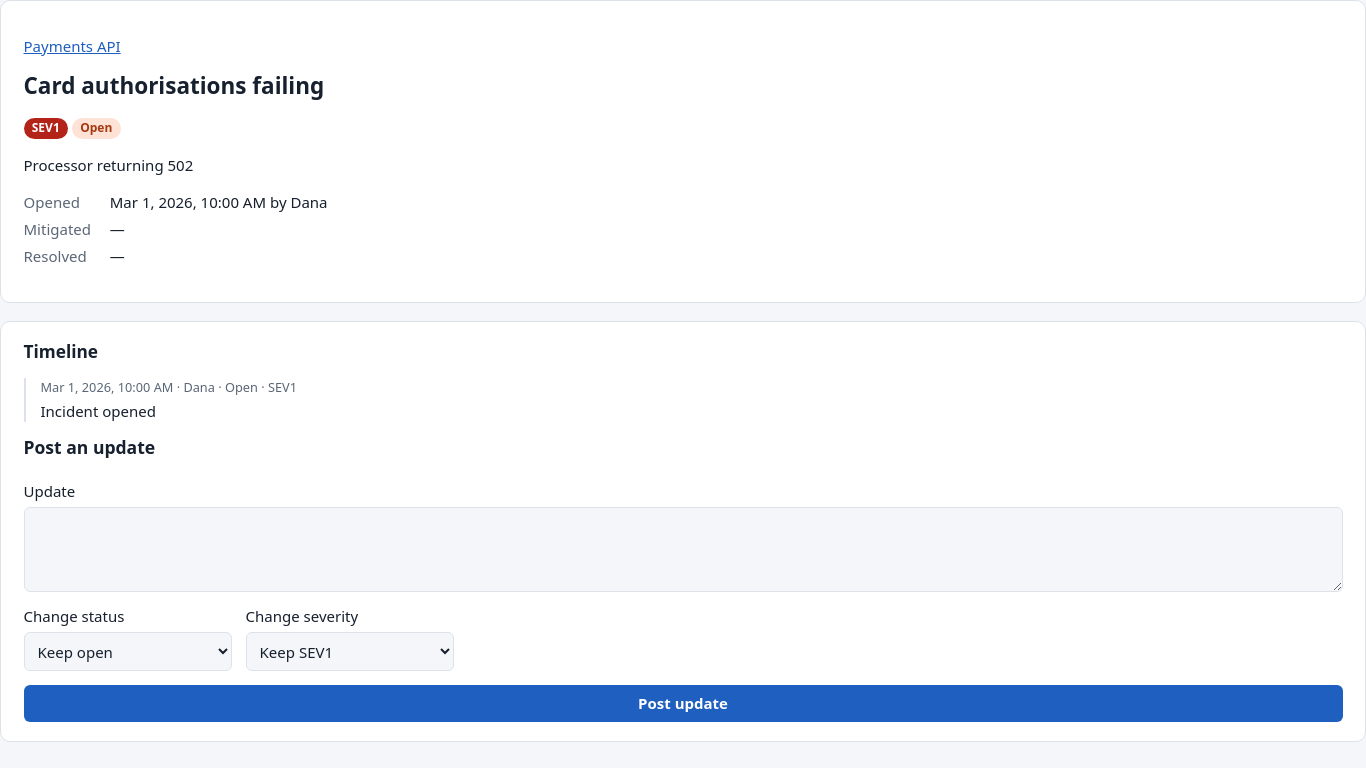
IncidentPage › lets operators post an update with a valid transition
Type "Failed over to secondary" into the text box labelled "Update" at (683,549), box x1=24 y1=507 x2=1342 y2=592
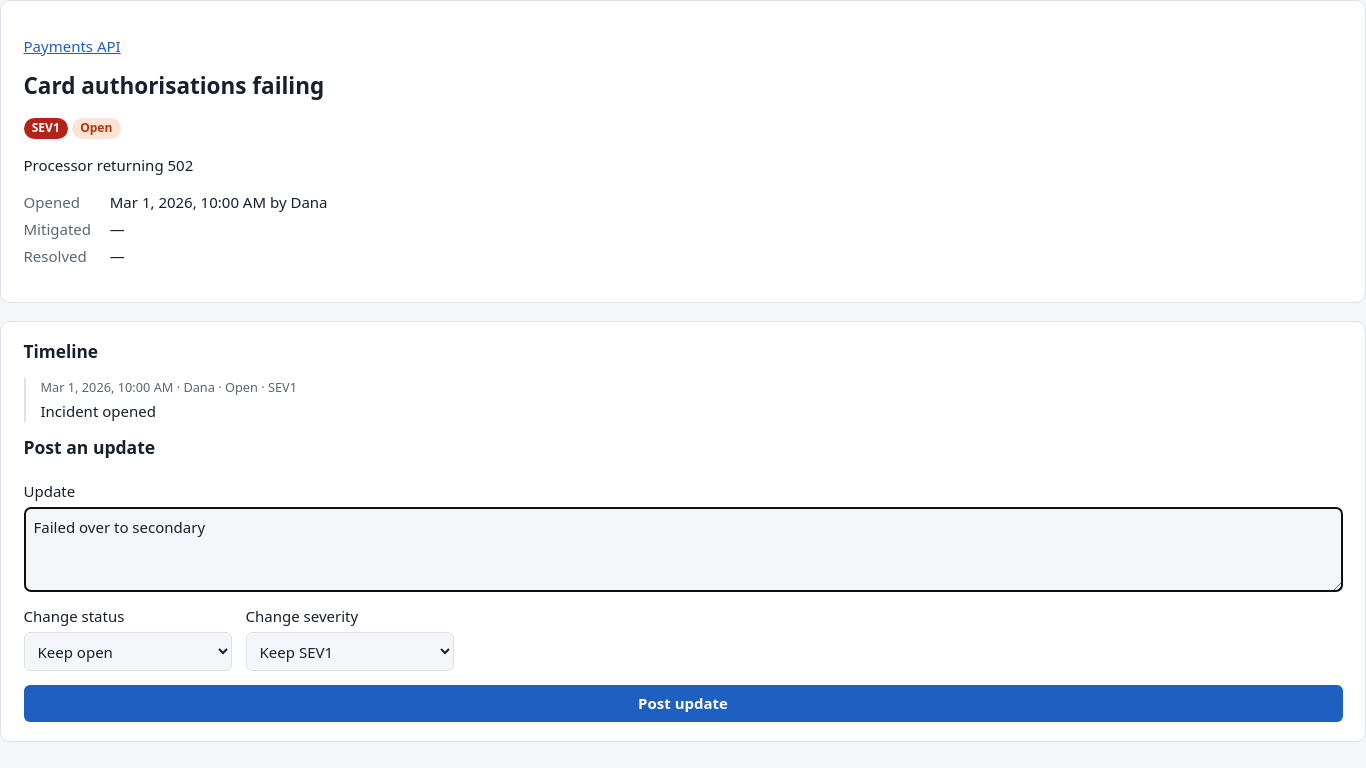
Select "Mitigated" in the dropdown labelled "Change status" at (128,652), box x1=24 y1=632 x2=232 y2=671
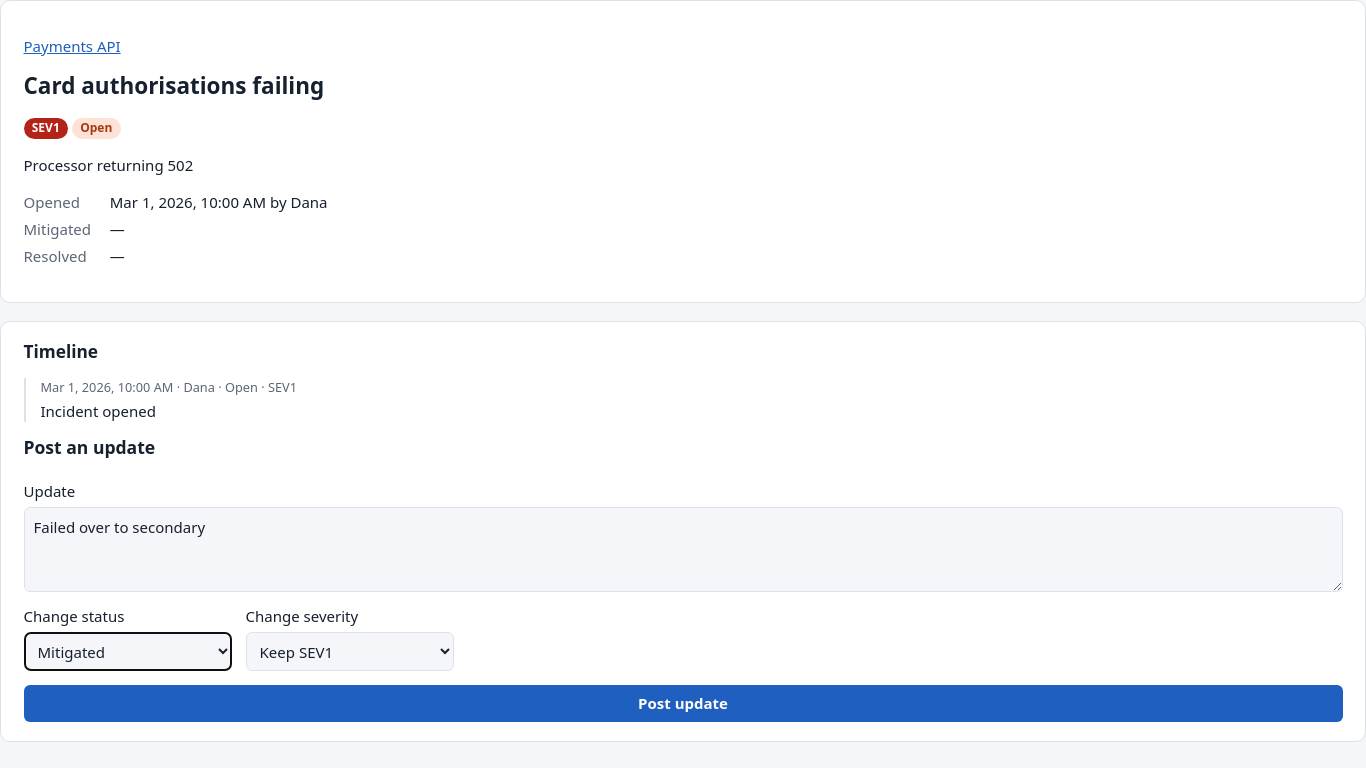
Click the button "Post update" at (683,703), box x1=24 y1=685 x2=1342 y2=722
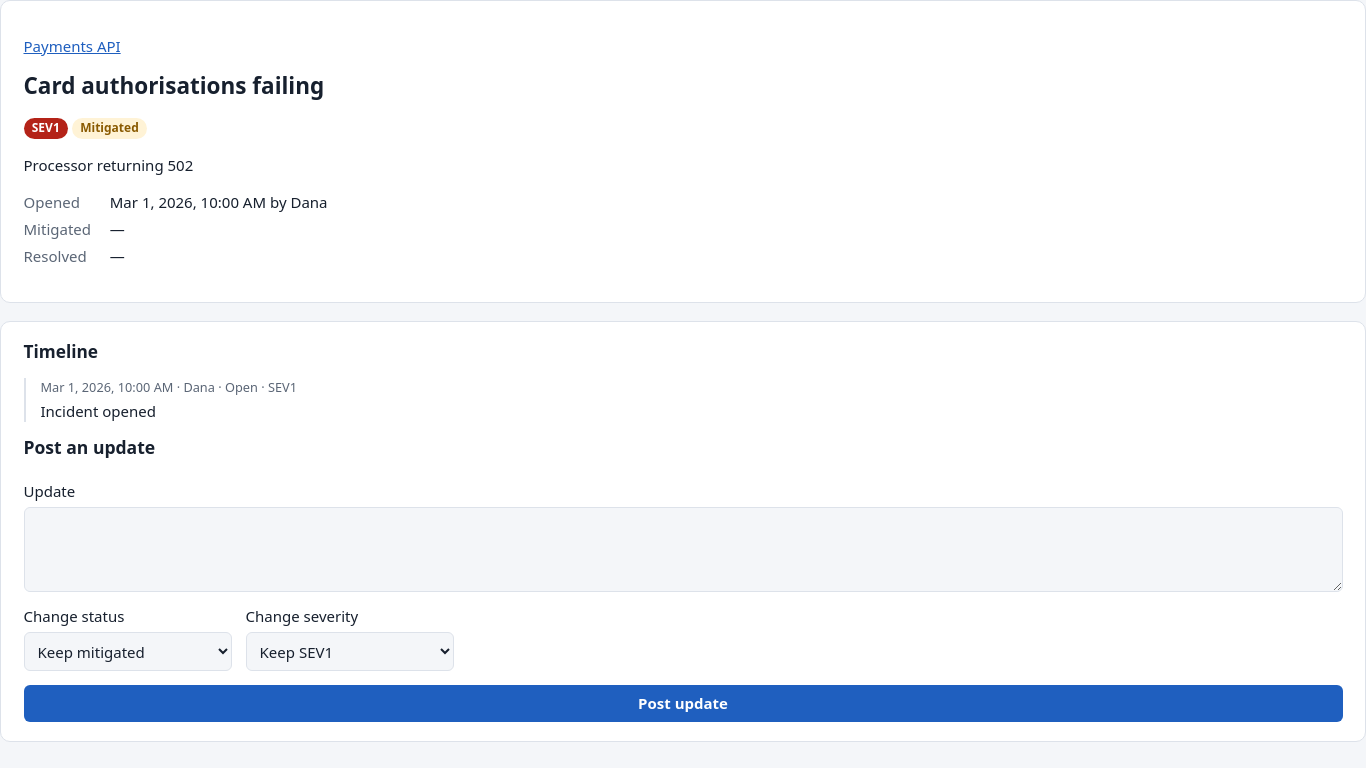
Expected: the 1st text "Mitigated" is shown, x1=72 y1=118 x2=147 y2=139
